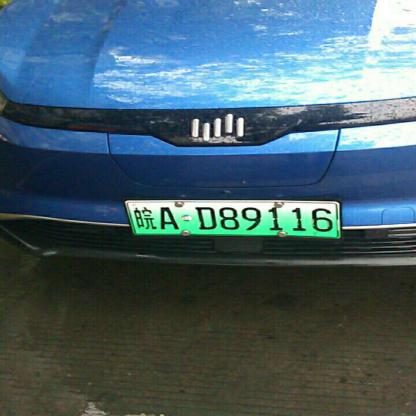lp: (125, 202, 338, 236)
